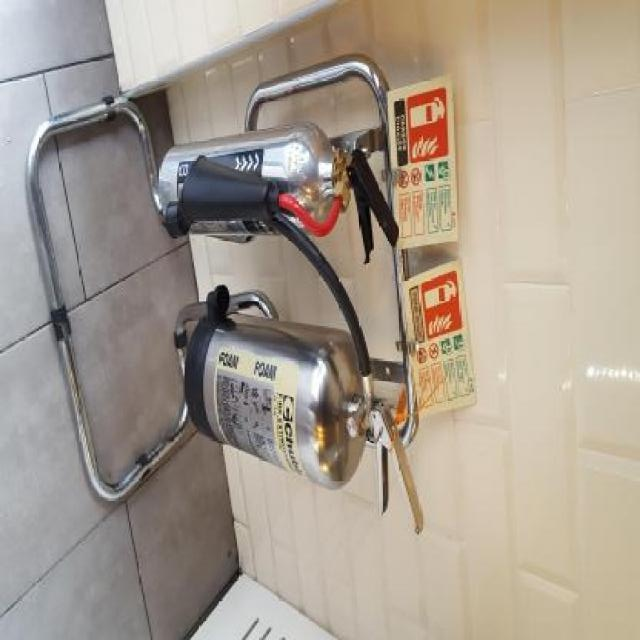fire extinguisher: (185, 312, 426, 539), (156, 119, 399, 263)
